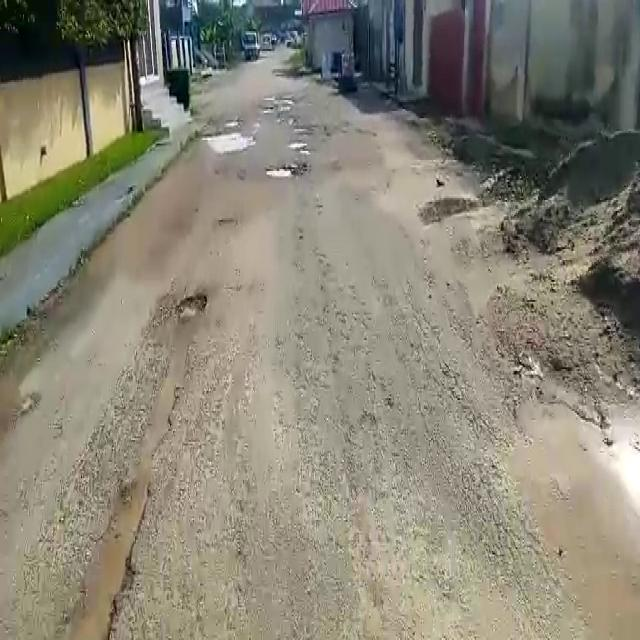Pothole: (204, 126, 253, 153), (176, 293, 208, 320), (266, 162, 300, 178)
